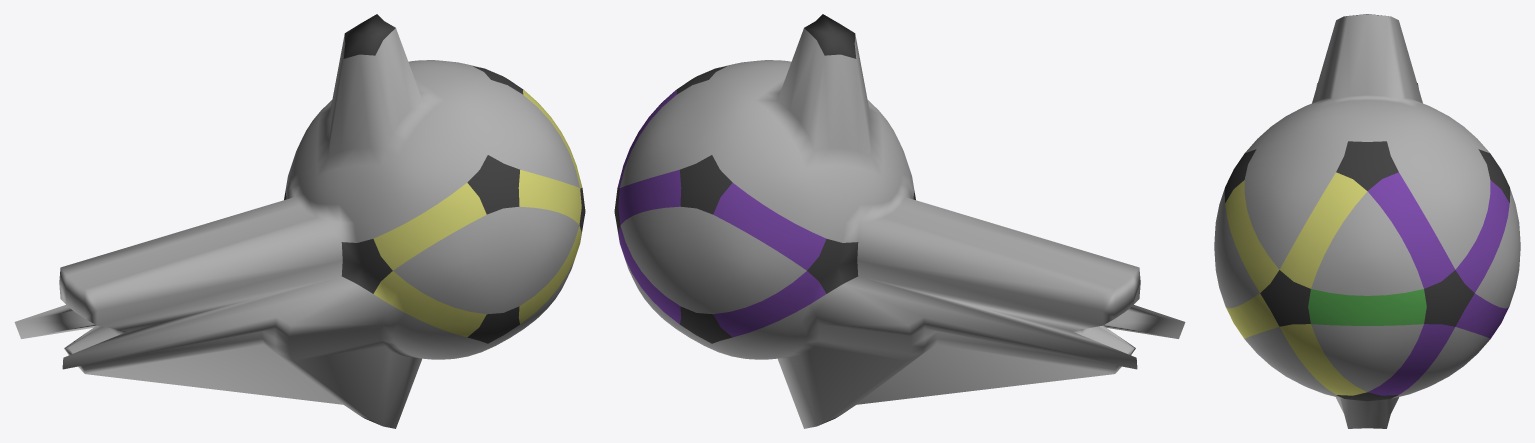
The model's file is ShapesCool_000v003.fbx.
3 views of the same model, side by side, from view 1: azimuth 30°, elevation 25°; view 2: azimuth 150°, elevation 25°; view 3: azimuth 270°, elevation 25° (orthographic). The views are drawn at different scales.
Visible parts, largest first — view 1: pSolid1; view 2: pSolid1; view 3: pSolid1.
Boxes of the visible parts, bbox=[...] form: pSolid1: bbox=[14, 14, 585, 428]; pSolid1: bbox=[614, 14, 1185, 428]; pSolid1: bbox=[1214, 14, 1520, 428].
Size of the model in its own units: 2.93 by 2.15 by 1.44.
